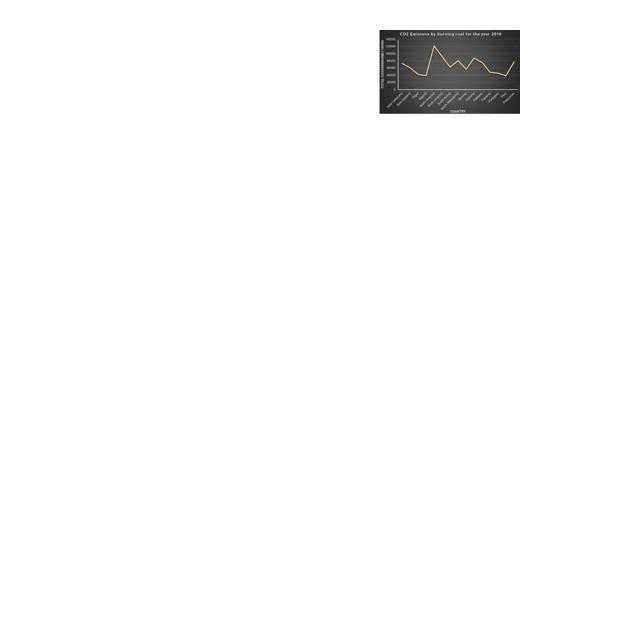Graph: (379, 30, 520, 114)
